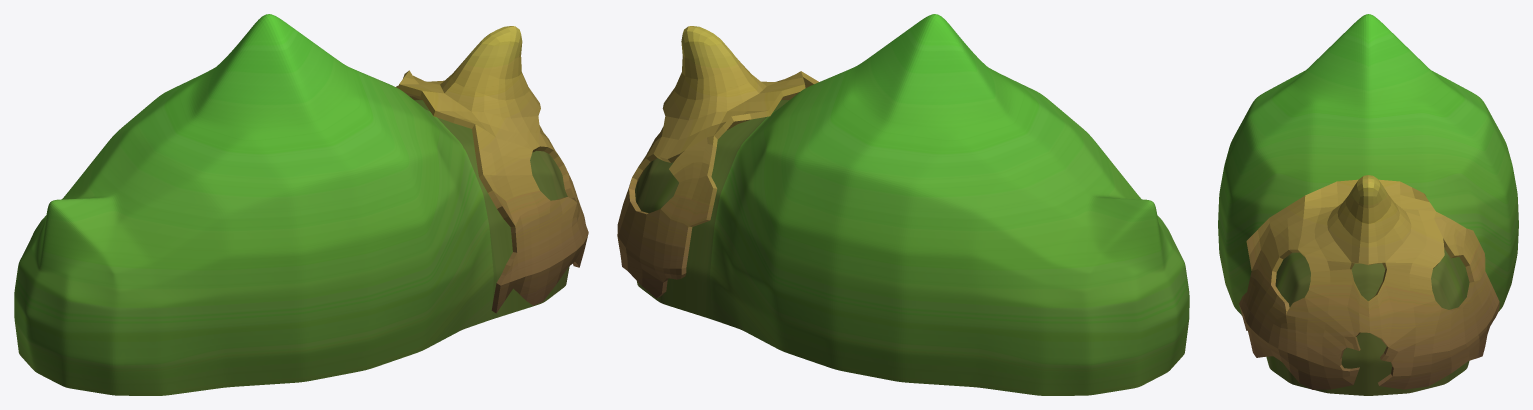
The model's file is Enemy_A.fbx.
The picture shows the model from 3 angles, left to right: view 1: azimuth 30°, elevation 25°; view 2: azimuth 150°, elevation 25°; view 3: azimuth 270°, elevation 25°; orthographic projection. The views are drawn at different scales.
Parts seen in each view (by area): view 1: Cube.003, Cube; view 2: Cube.003, Cube; view 3: Cube.003, Cube.
Boxes of the visible parts, left/top/right/bottom form: Cube.003: left=14, top=14, right=569, bottom=395; Cube: left=396, top=26, right=588, bottom=313; Cube.003: left=635, top=14, right=1189, bottom=395; Cube: left=617, top=26, right=818, bottom=298; Cube.003: left=1218, top=14, right=1518, bottom=395; Cube: left=1239, top=175, right=1499, bottom=389.
Bounding box in the file's own units: 199 × 106 × 110.
